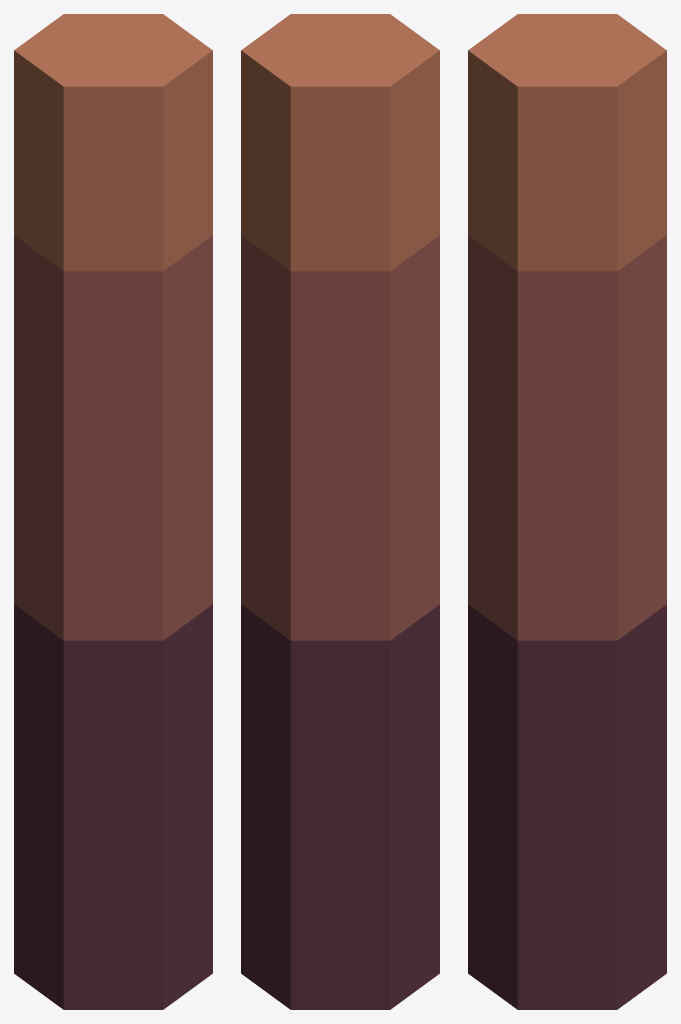
The model's file is Stablo.fbx.
3 views of the same model, side by side, from view 1: azimuth 30°, elevation 25°; view 2: azimuth 150°, elevation 25°; view 3: azimuth 270°, elevation 25° (orthographic).
Parts seen in each view (by area): view 1: Stablo; view 2: Stablo; view 3: Stablo.
Part boxes in pixels (x1,y1,x2,y2): Stablo: (14,14,212,1009); Stablo: (241,14,439,1009); Stablo: (468,14,666,1009).
Bounding box in the file's own units: 16.66 × 98.56 × 19.23.
